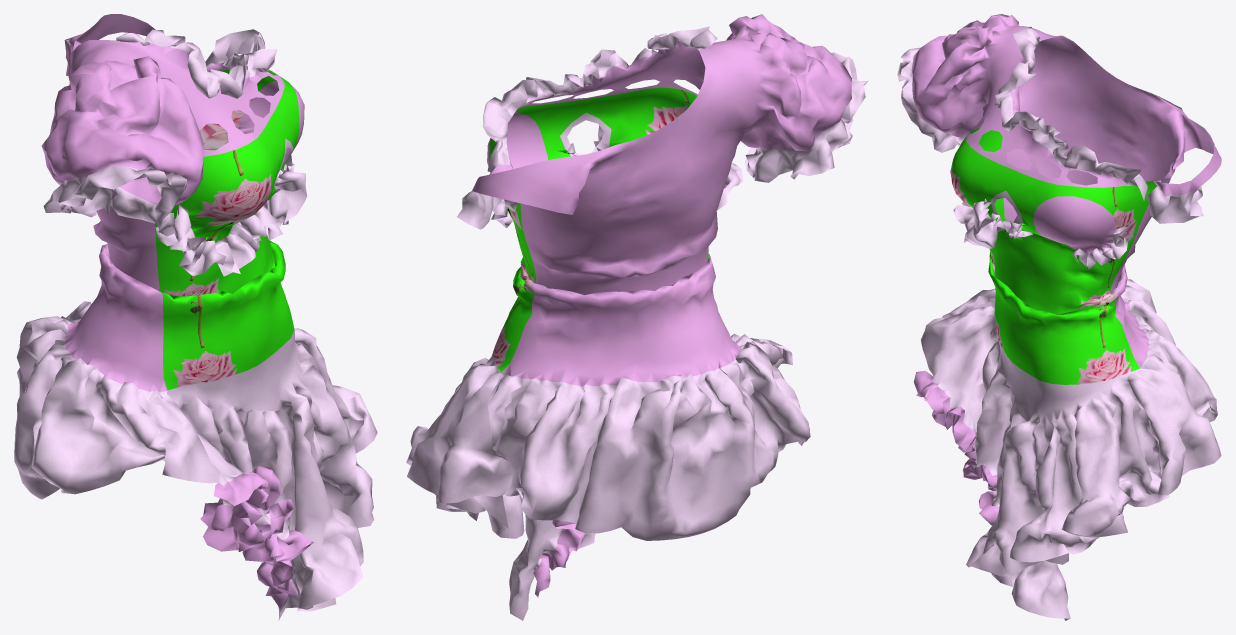
File: asset04.glb
3 renders of one model, left to right at view 1: azimuth 30°, elevation 25°; view 2: azimuth 150°, elevation 25°; view 3: azimuth 270°, elevation 25°, orthographic. The views are drawn at different scales.
Visible parts, largest first — view 1: 14; view 2: 14; view 3: 14.
Boxes of the visible parts, x1=… form: 14: x1=14, y1=14, x2=377, y2=620; 14: x1=406, y1=14, x2=868, y2=620; 14: x1=897, y1=14, x2=1221, y2=620.
Size of the model in its own units: 5.54 by 8.81 by 4.94.
3 materials, 3 textured.
